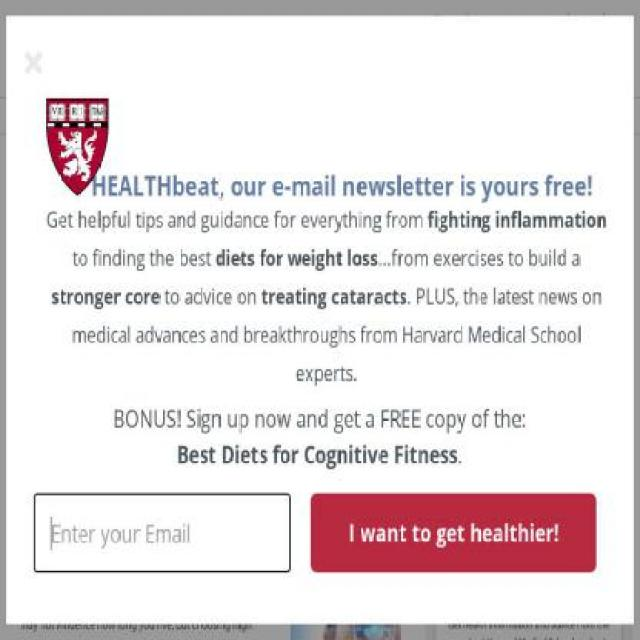button: (435, 147, 622, 315), (33, 168, 199, 349), (412, 168, 578, 349), (20, 17, 234, 89), (289, 427, 400, 527), (290, 599, 401, 639), (448, 412, 609, 434), (448, 433, 609, 455), (448, 475, 609, 497), (448, 496, 609, 518), (448, 371, 609, 392), (448, 392, 609, 413), (448, 454, 609, 475), (48, 98, 112, 134), (110, 98, 173, 134), (172, 98, 235, 134), (234, 98, 297, 134), (296, 98, 359, 134), (420, 98, 483, 134), (544, 98, 607, 134), (358, 98, 420, 134), (482, 98, 544, 134), (350, 53, 424, 81), (471, 12, 566, 32), (601, 38, 634, 80), (434, 12, 466, 32), (572, 12, 600, 32), (606, 12, 632, 32), (169, 357, 177, 371), (243, 357, 251, 371)
field: (445, 38, 603, 80)
